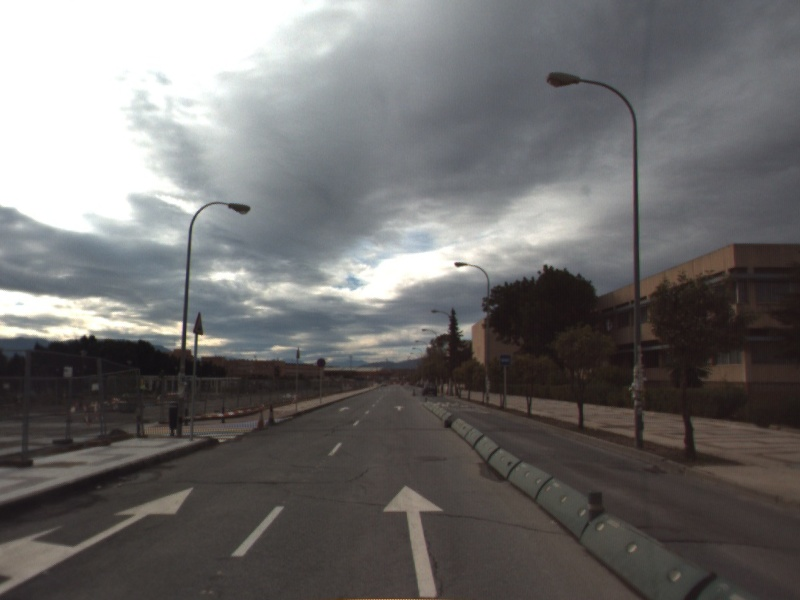STRAIGHT: (381, 483, 447, 599), (336, 405, 352, 413), (392, 404, 406, 412)
STRAIGHT_LEFT: (1, 485, 196, 595)
